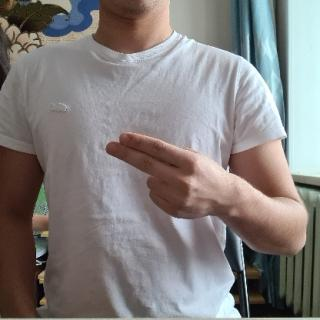AYN: (103, 128, 236, 220)
